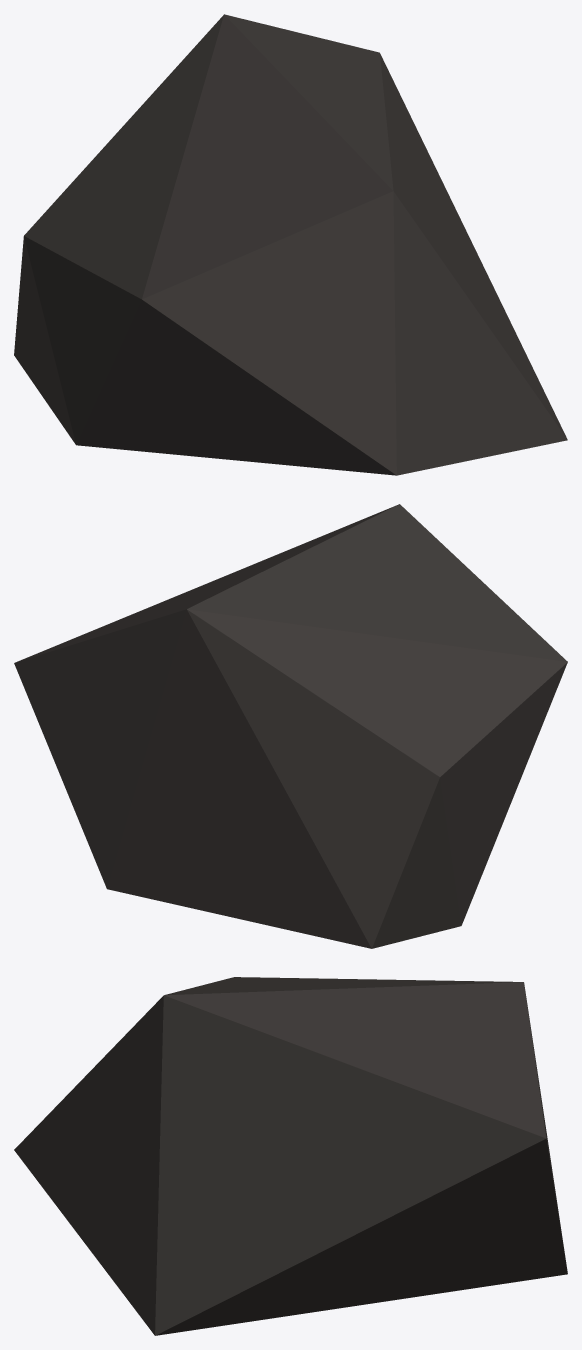
The model's file is Rock_Single_1_LOD_1.fbx.
The picture shows the model from 3 angles, top to bottom: view 1: azimuth 30°, elevation 25°; view 2: azimuth 150°, elevation 25°; view 3: azimuth 270°, elevation 25°; orthographic projection. The views are drawn at different scales.
Visible parts, largest first — view 1: Group1185; view 2: Group1185; view 3: Group1185.
Boxes of the visible parts, left/top/right/bottom form: Group1185: left=14, top=14, right=567, bottom=475; Group1185: left=14, top=504, right=567, bottom=948; Group1185: left=14, top=977, right=567, bottom=1335.
Size of the model in its own units: 0.8388 by 0.6443 by 1.07.
